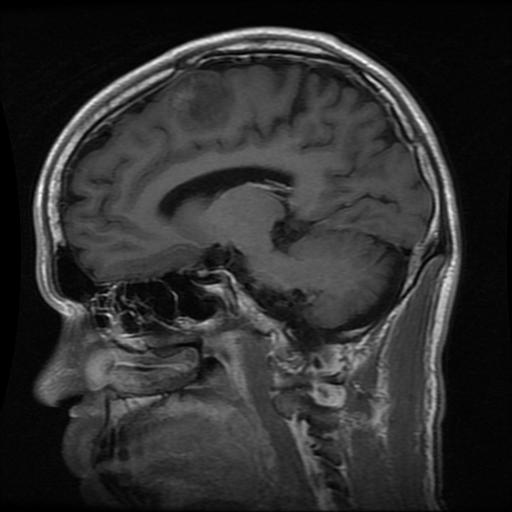Gliomia_tumour: (172, 71, 236, 130)
